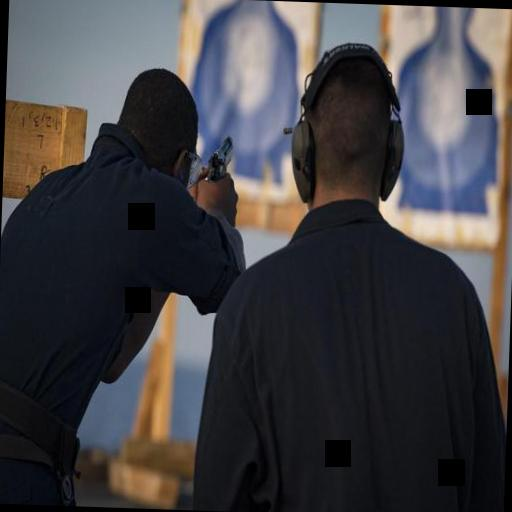Handgun: (202, 129, 234, 180)
